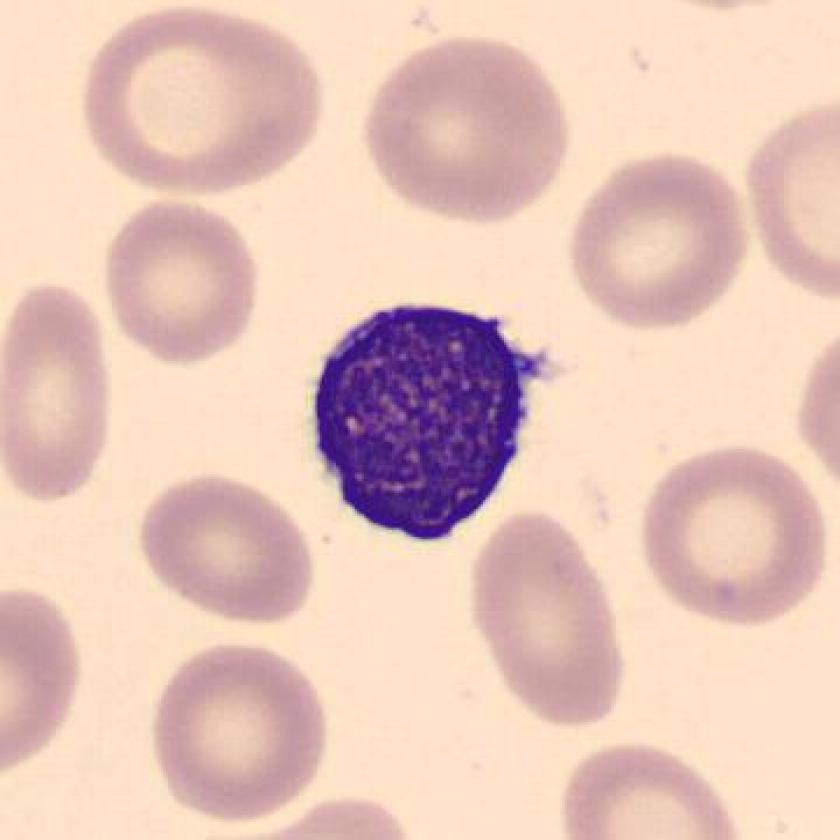lymphocyte: (293, 288, 561, 566)
